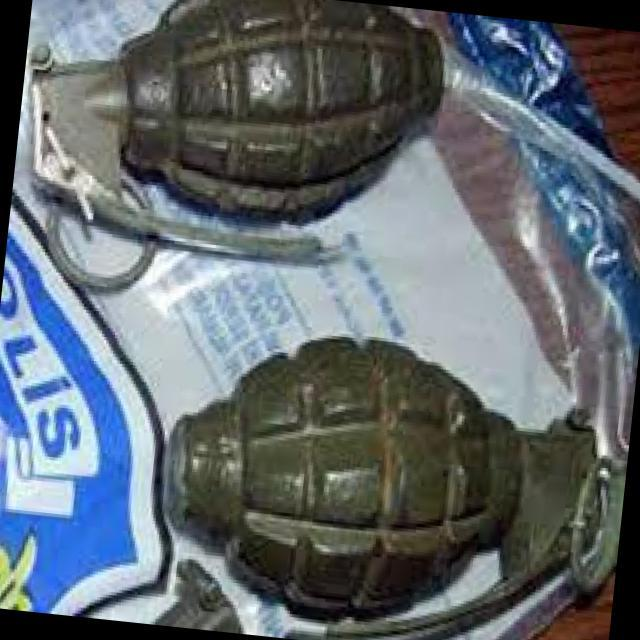grenade: (140, 308, 629, 640), (2, 0, 473, 322)
